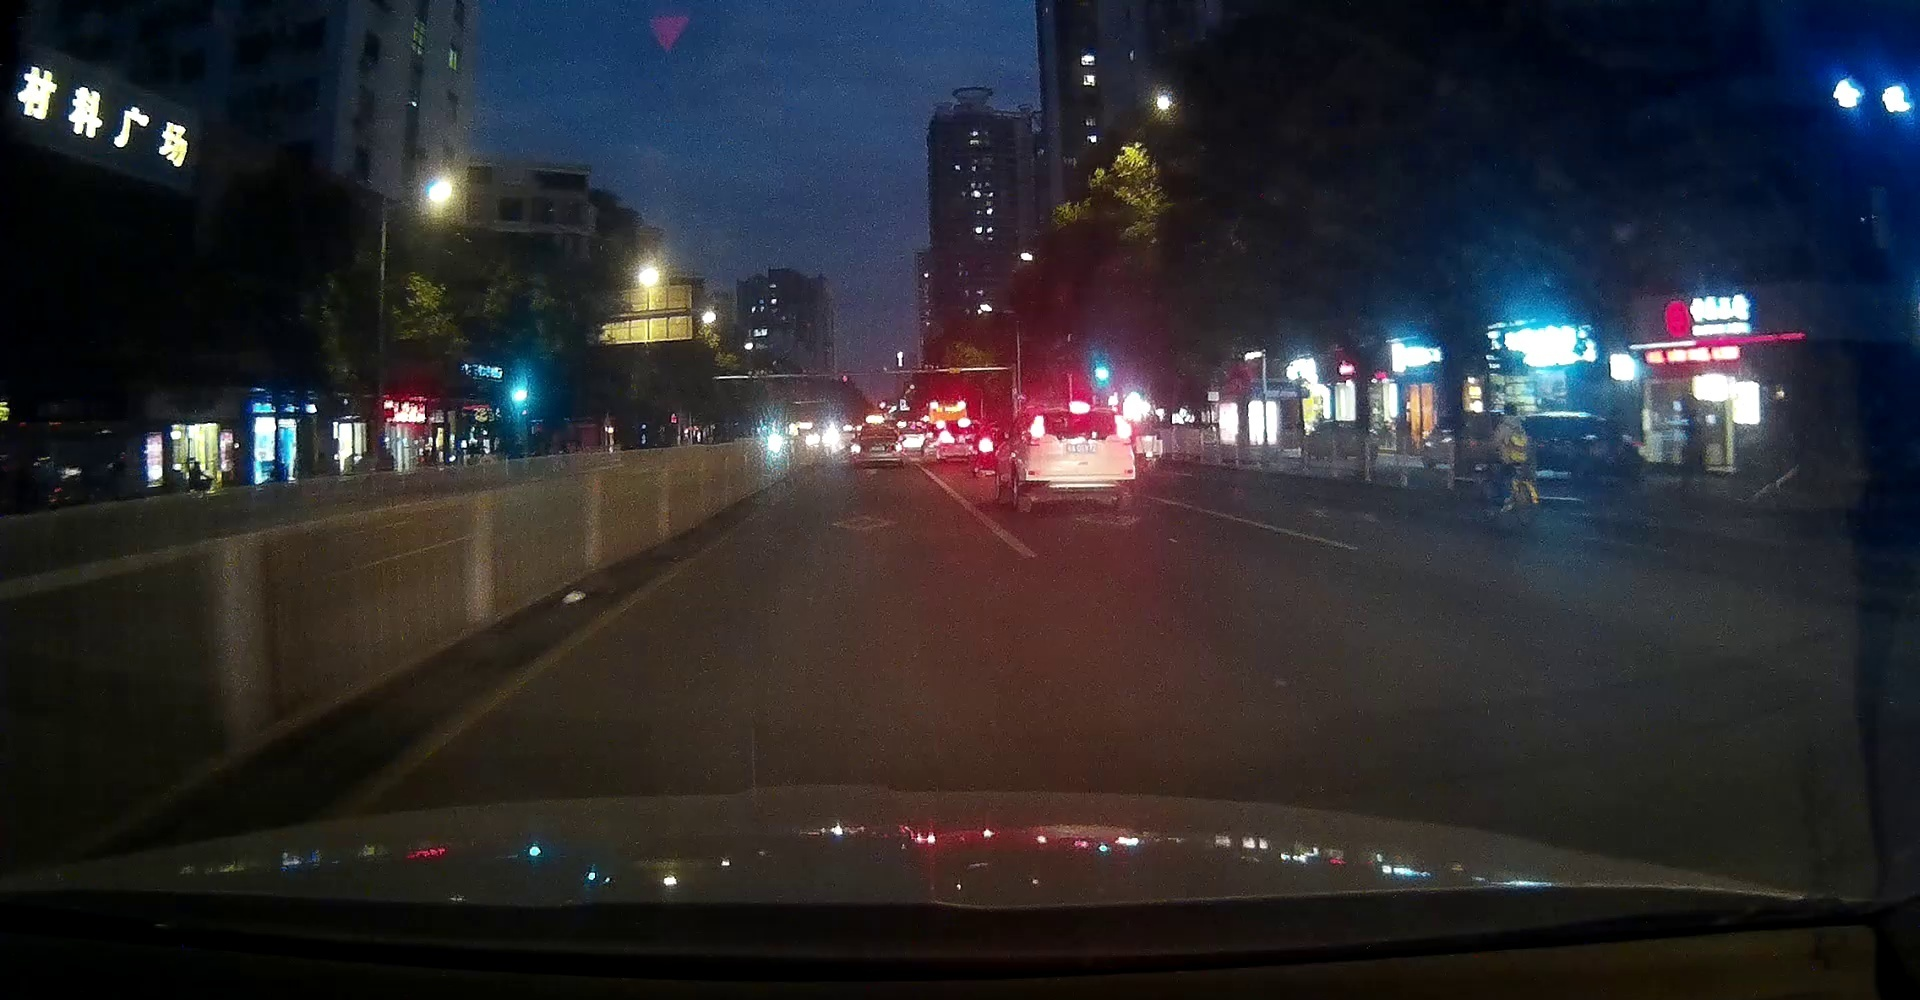L_light: (1027, 415, 1045, 445)
R_light: (1114, 415, 1131, 444)
T_light: (1069, 411, 1090, 414)
night-no: (1020, 405, 1135, 514)
